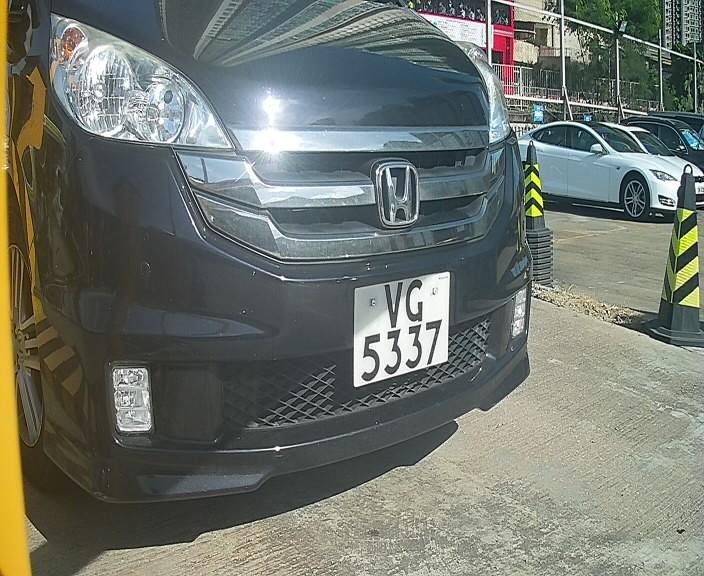License Plate: (349, 265, 462, 397)
